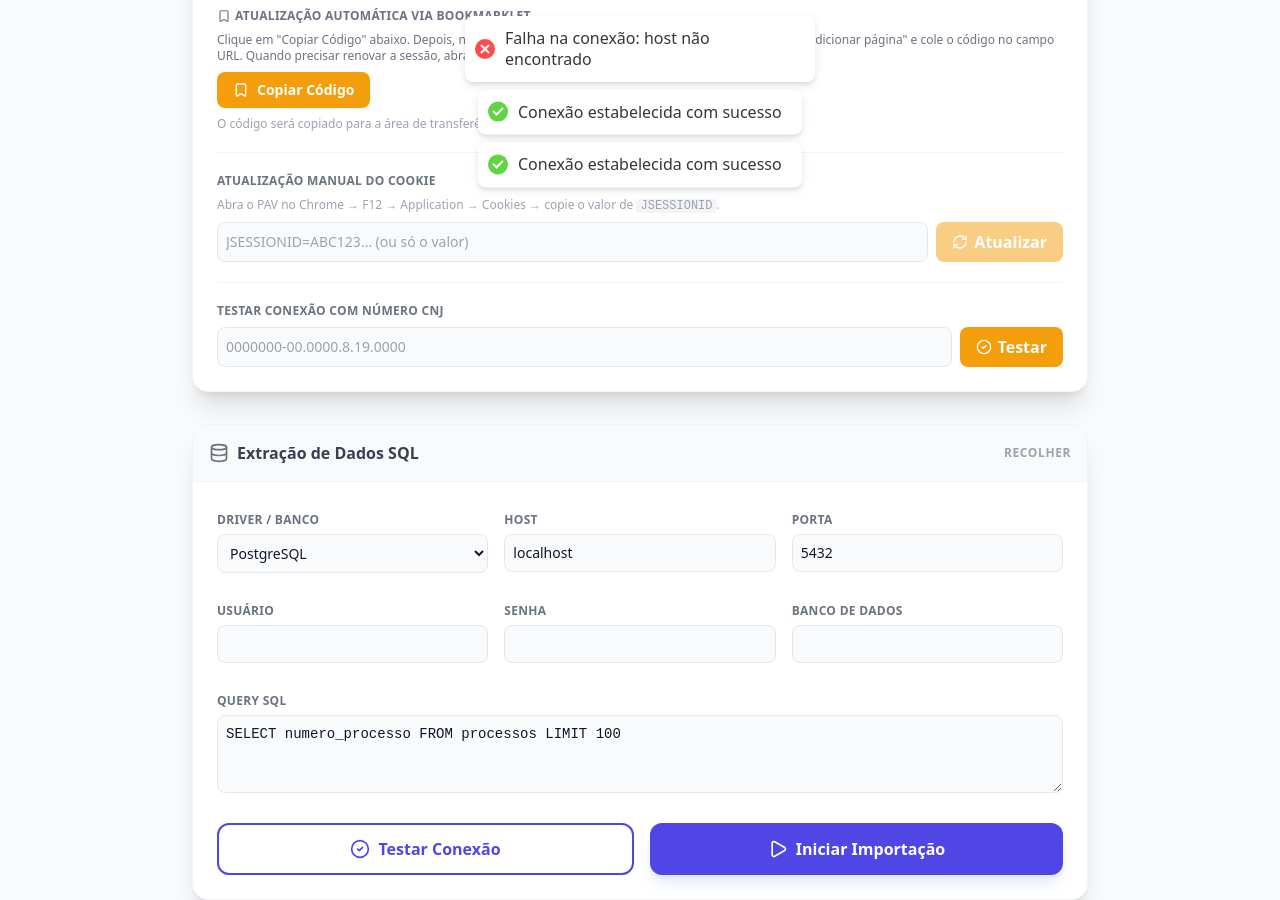
Test case: Settings Component › Test Connection Functionality › TC-16: handles API exception gracefully
(page scrolled)
Click the button "Testar Conexão".
click(426, 849)  # box [217, 823, 634, 875]
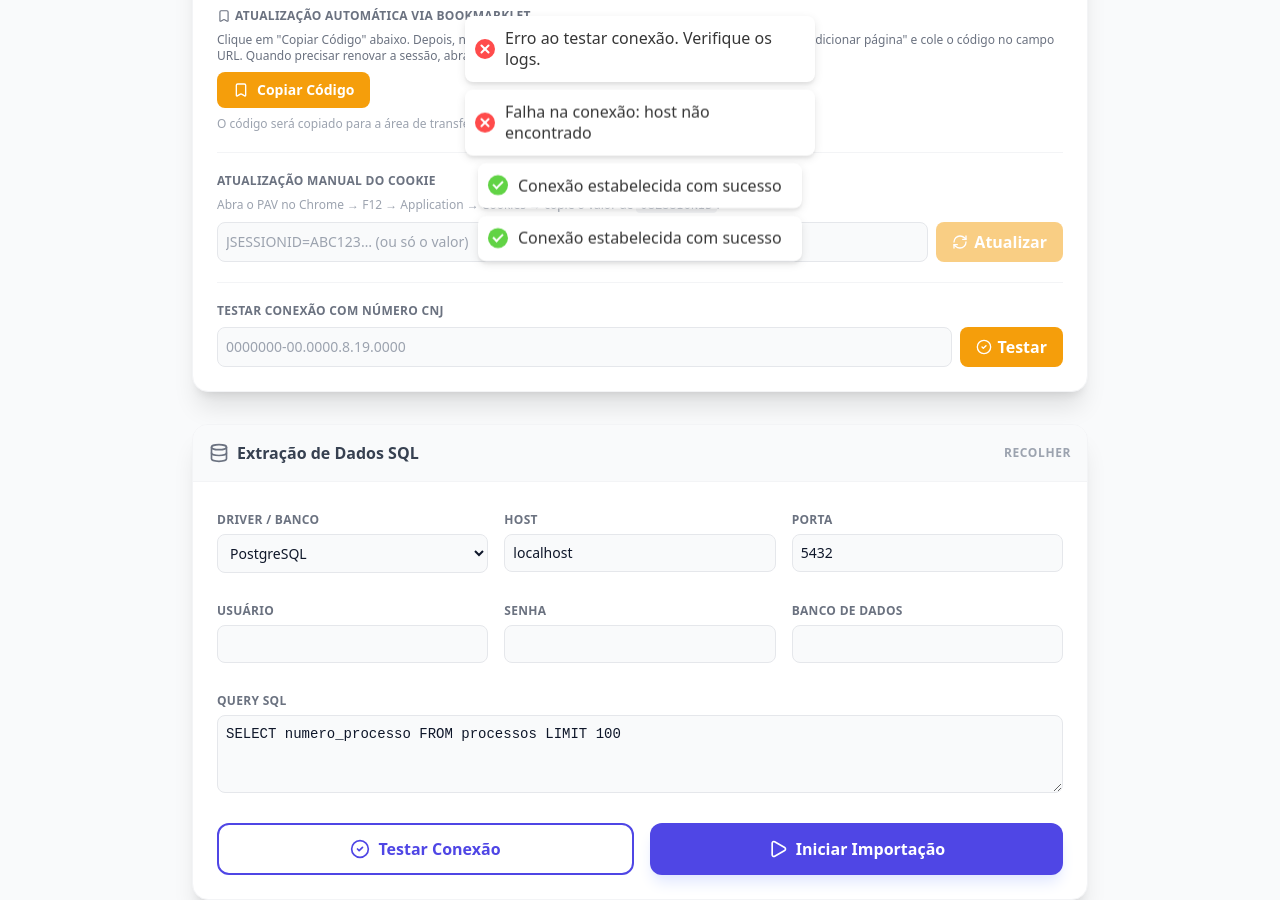
Expected: the text "Erro ao testar conexão. Verifique os logs." is shown, [505, 28, 795, 70]
